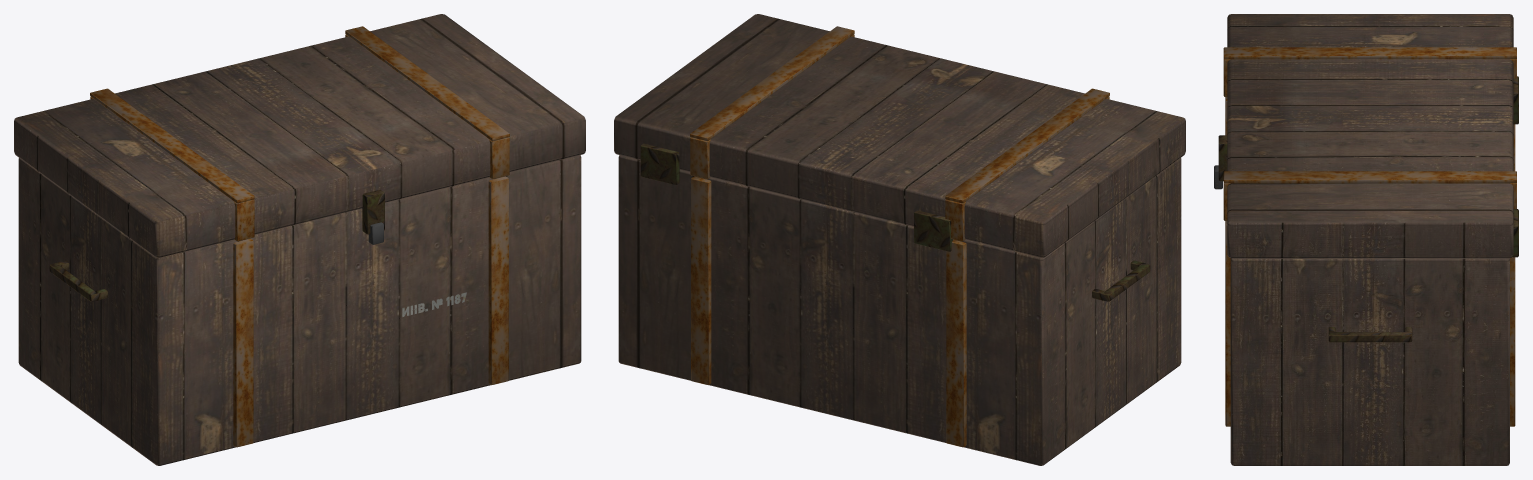
Rendered from deploy_boxlarge.glb.
3 views of the same model, side by side, from view 1: azimuth 30°, elevation 25°; view 2: azimuth 150°, elevation 25°; view 3: azimuth 270°, elevation 25° (orthographic).
Parts seen in each view (by area): view 1: box, box.001, box.002, box.005, box.004, box.007, box.010, box.003, box.006, box.012; view 2: box, box.001, box.005, box.002, box.004, box.007, box.009, box.008, box.006, box.003, box.012; view 3: box.001, box, box.004, box.007, box.005, box.015, box.010.
Part boxes in pixels (left/top/right/bottom): box: left=18, top=155, right=581, bottom=465; box.001: left=14, top=14, right=585, bottom=257; box.002: left=233, top=238, right=253, bottom=447; box.005: left=488, top=176, right=508, bottom=384; box.004: left=90, top=88, right=254, bottom=203; box.007: left=345, top=26, right=509, bottom=141; box.010: left=362, top=190, right=384, bottom=234; box.003: left=90, top=97, right=254, bottom=241; box.006: left=345, top=34, right=509, bottom=178; box.012: left=49, top=263, right=97, bottom=301; box: left=618, top=155, right=1181, bottom=465; box.001: left=614, top=14, right=1185, bottom=257; box.005: left=691, top=176, right=711, bottom=384; box.002: left=946, top=239, right=966, bottom=447; box.004: left=945, top=88, right=1109, bottom=203; box.007: left=690, top=26, right=854, bottom=141; box.009: left=640, top=143, right=679, bottom=184; box.008: left=914, top=210, right=952, bottom=251; box.006: left=690, top=34, right=854, bottom=178; box.003: left=945, top=97, right=1109, bottom=241; box.012: left=1102, top=263, right=1150, bottom=301; box.001: left=1227, top=14, right=1513, bottom=258; box: left=1230, top=258, right=1509, bottom=465; box.004: left=1223, top=47, right=1516, bottom=59; box.007: left=1223, top=171, right=1516, bottom=183; box.005: left=1225, top=221, right=1515, bottom=426; box.015: left=1328, top=332, right=1412, bottom=342; box.010: left=1218, top=135, right=1227, bottom=181.
Size of the model in its own units: 1.52 by 0.792 by 0.8725.
Materials: 5 (5 with a texture image).
